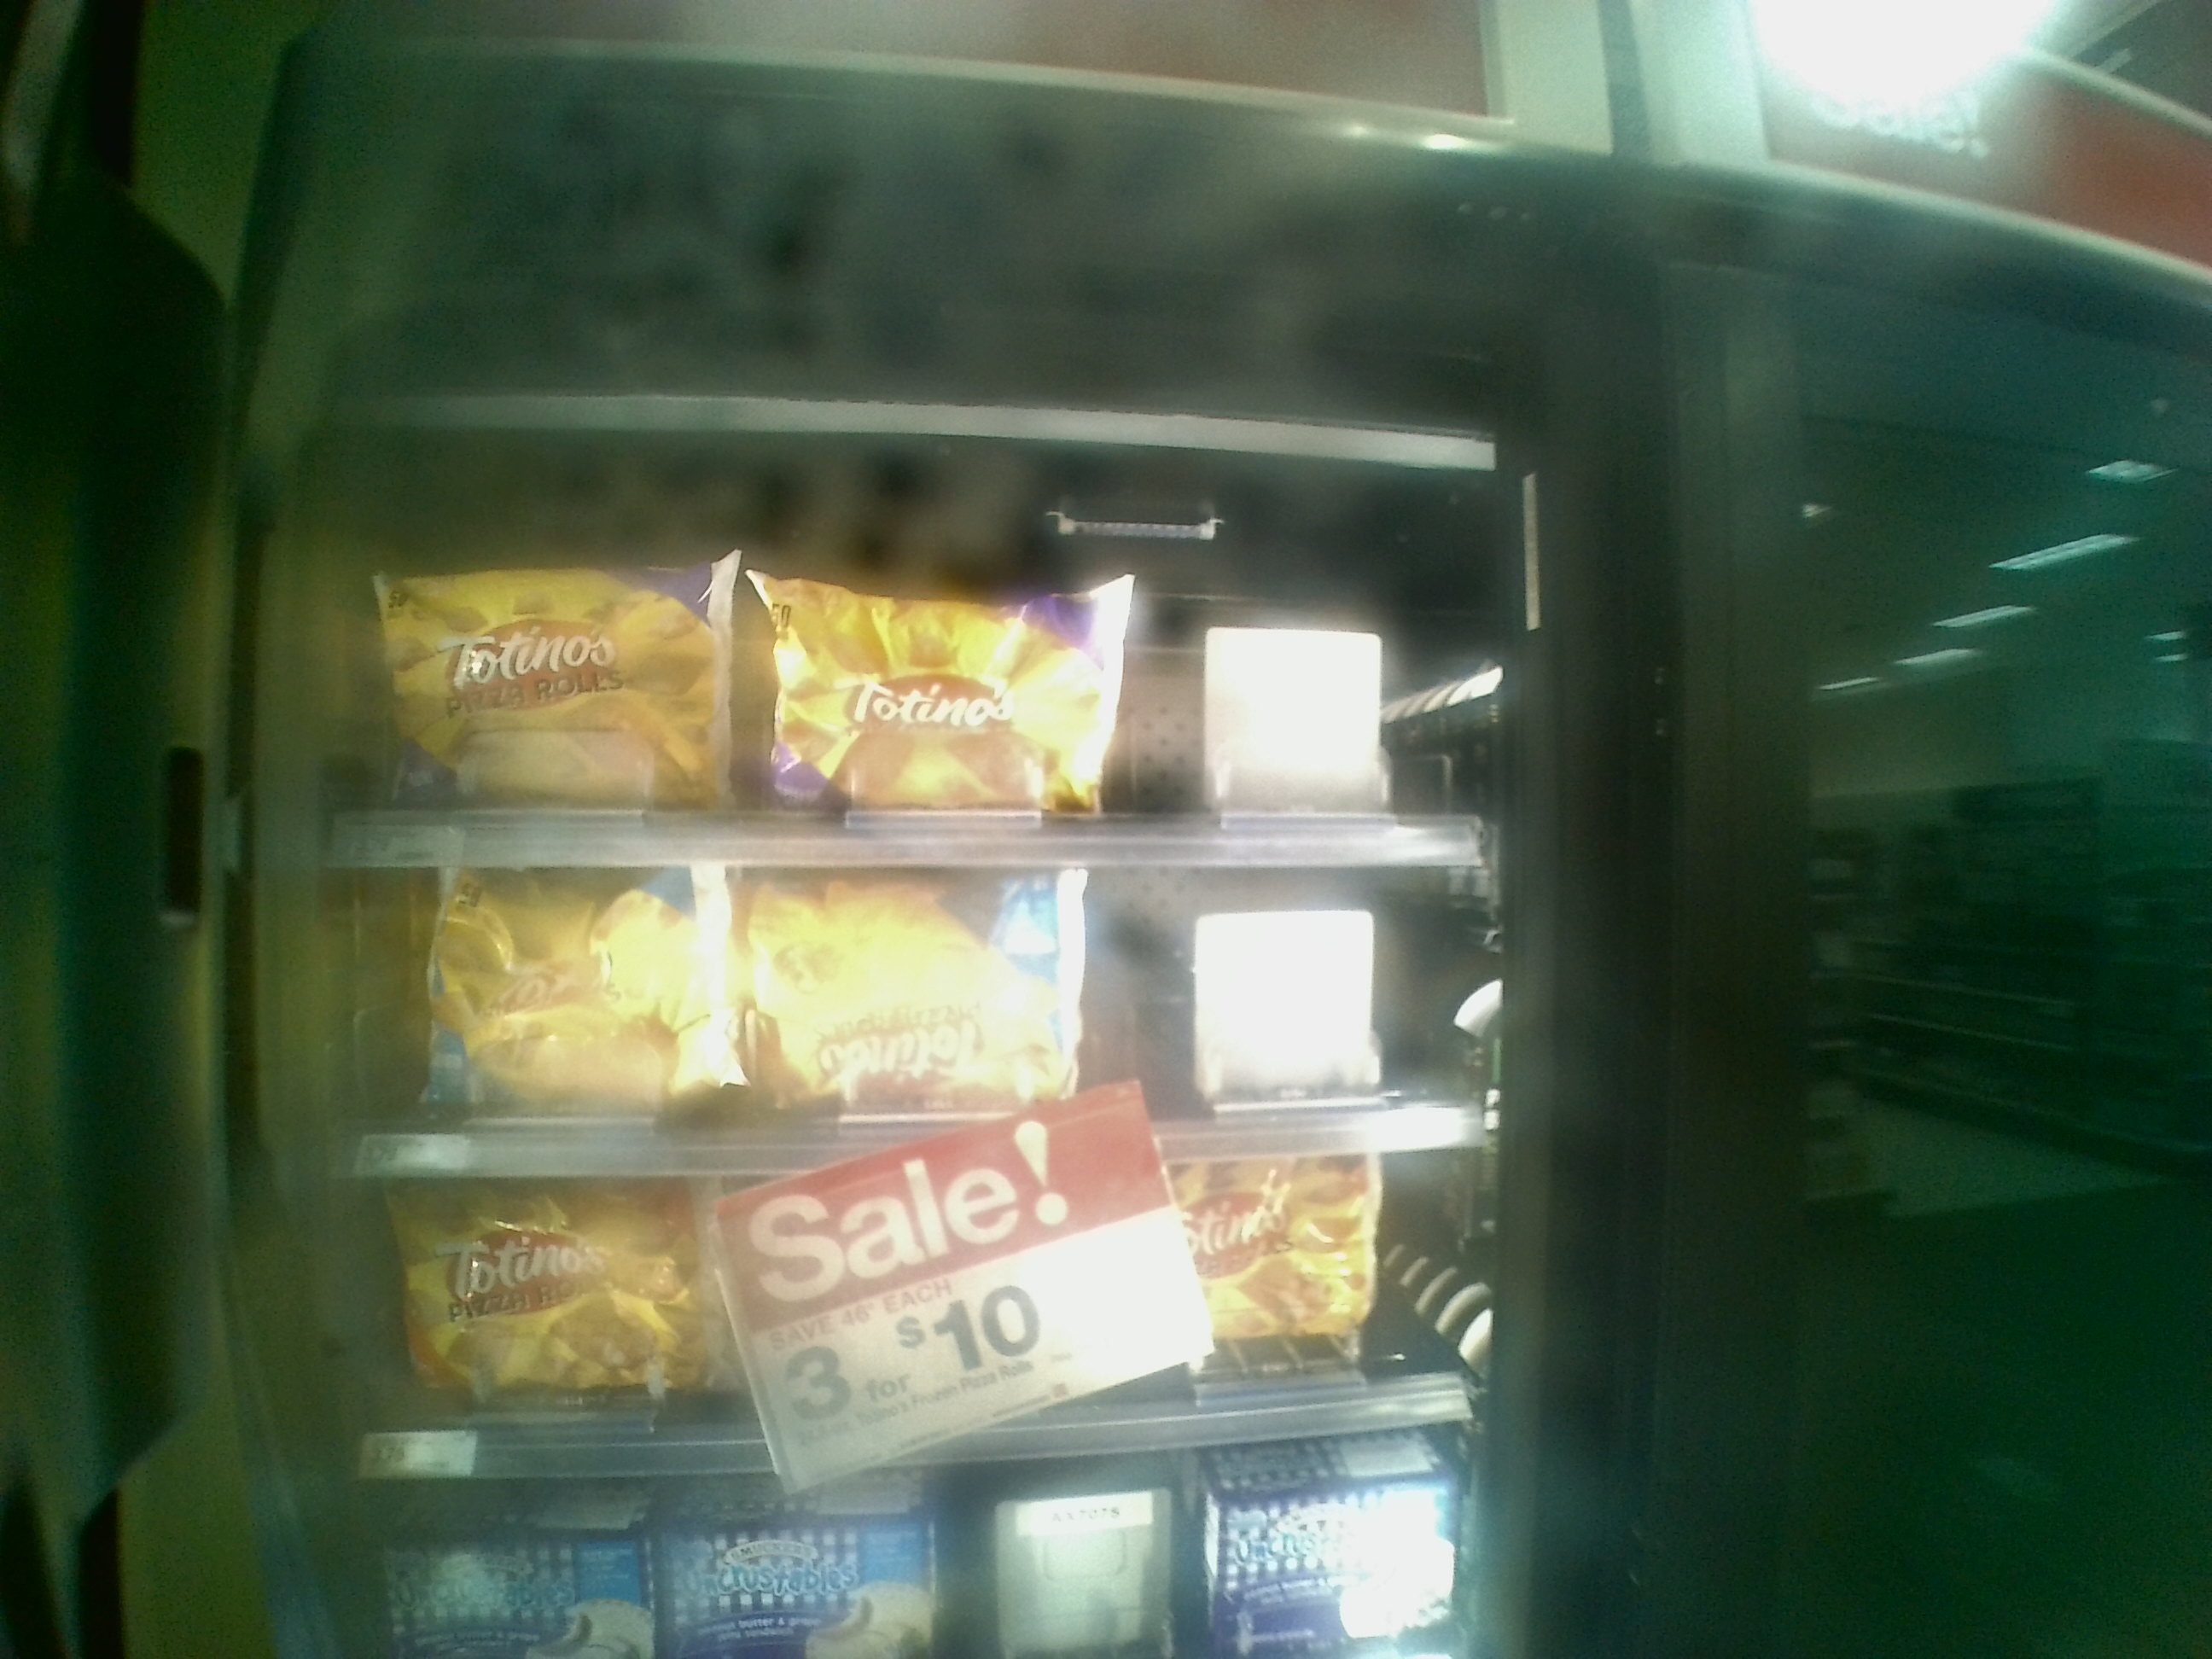shelf: (338, 434, 1493, 870), (322, 866, 1486, 1157), (319, 1169, 1475, 1460)
